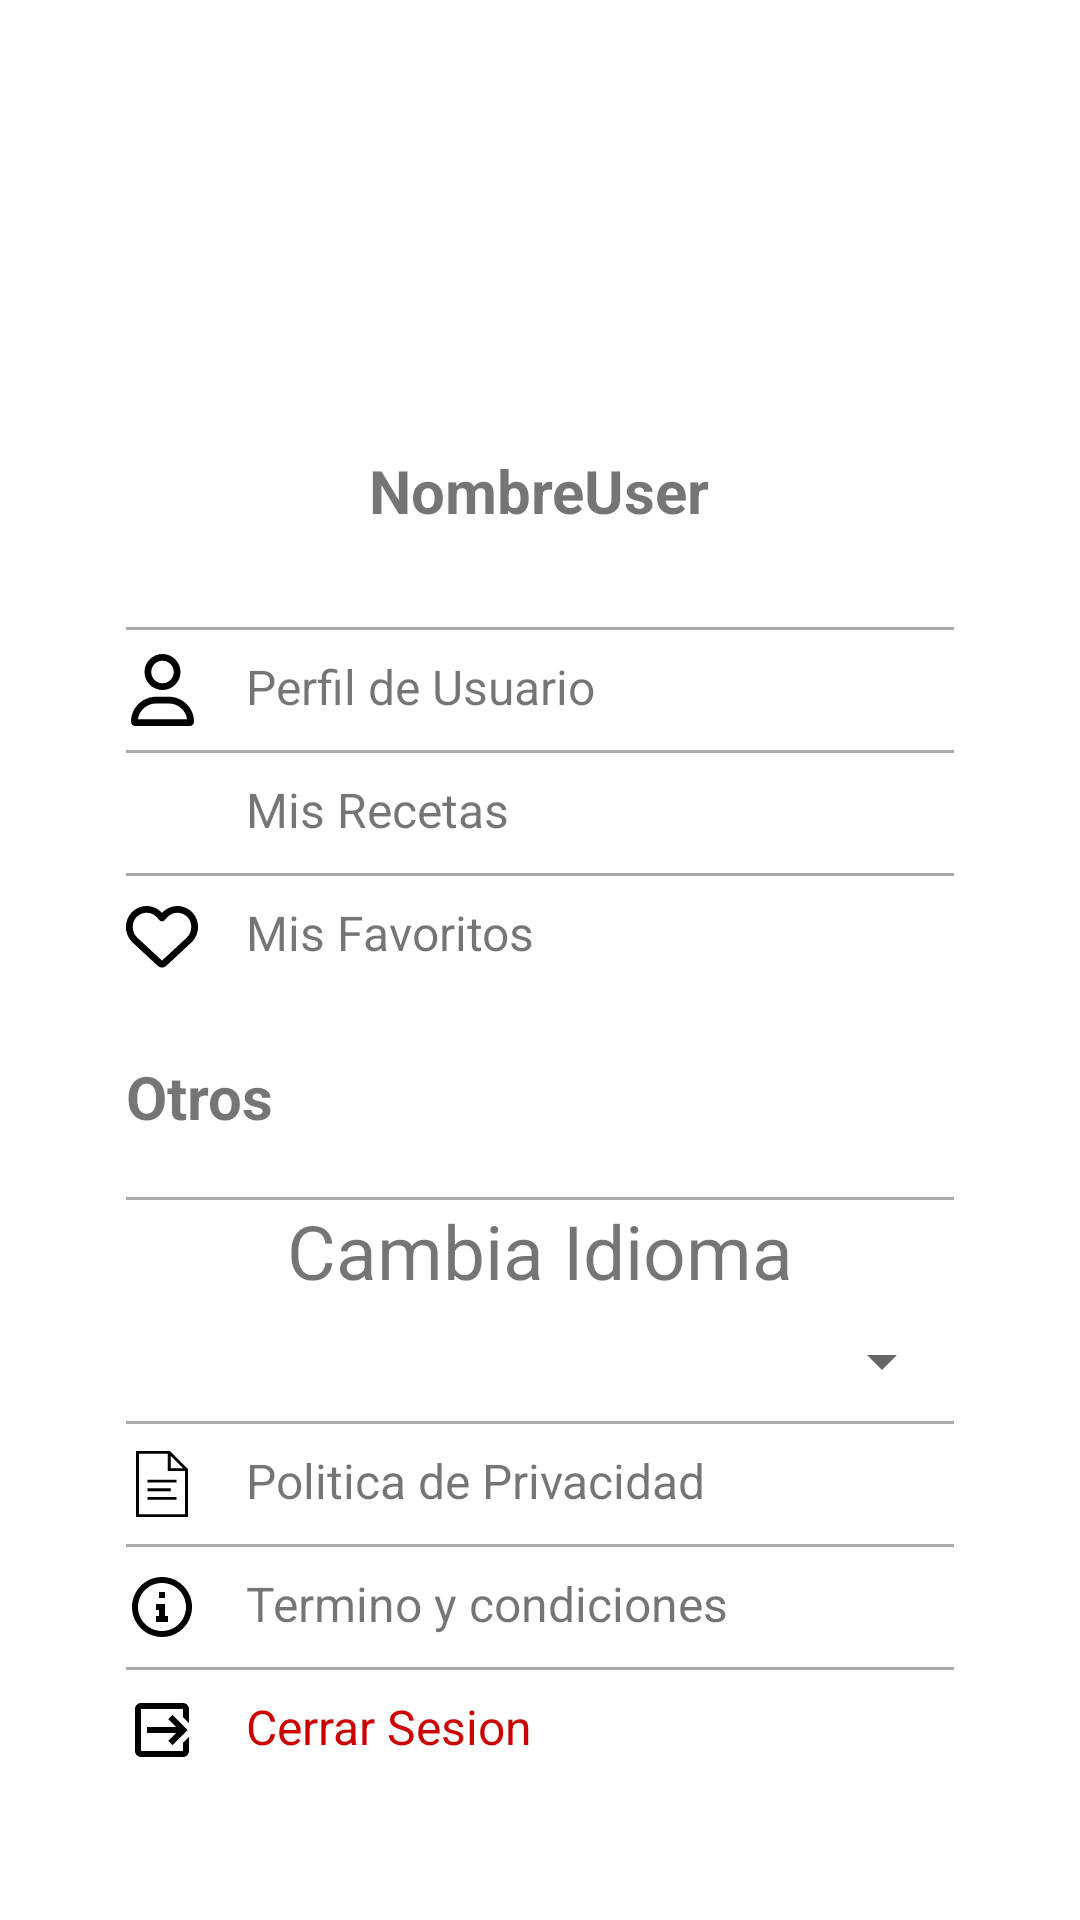

Where icons sit on this 1080px×1920px app screen, as detection(x1, y1, x2, y2):
favorite: detection(126, 906, 198, 968)
information: detection(132, 1577, 192, 1637)
profile: detection(131, 654, 194, 726)
